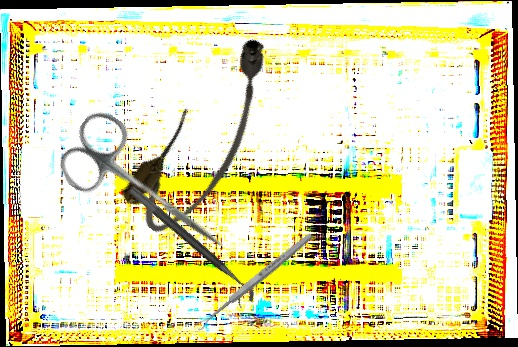Cannula: (113, 26, 301, 246)
Fixation Ring: (118, 184, 261, 312)
Iris Scissors: (49, 104, 248, 277)
Surgical Spoon: (193, 231, 315, 332)
